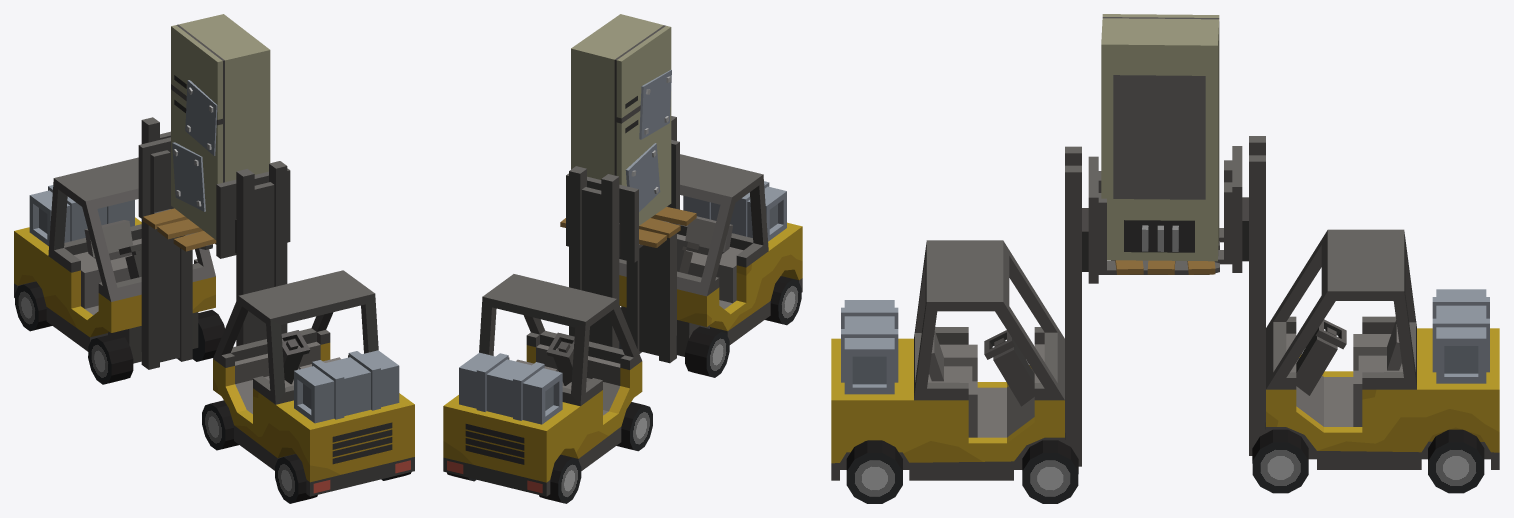
The model's file is AI_Prop_Forklift_Door.fbx.
The picture shows the model from 3 angles, left to right: view 1: azimuth 30°, elevation 25°; view 2: azimuth 150°, elevation 25°; view 3: azimuth 270°, elevation 25°; orthographic projection. The views are drawn at different scales.
Visible parts, largest first — view 1: AI_Prop_Forklift_Door, AI_Prop_Forklift_Door_Moveable; view 2: AI_Prop_Forklift_Door, AI_Prop_Forklift_Door_Moveable; view 3: AI_Prop_Forklift_Door, AI_Prop_Forklift_Door_Moveable.
Part boxes in pixels (x1=…): AI_Prop_Forklift_Door: x1=14, y1=117, x2=414, y2=503; AI_Prop_Forklift_Door_Moveable: x1=138, y1=14, x2=290, y2=258; AI_Prop_Forklift_Door: x1=443, y1=116, x2=802, y2=503; AI_Prop_Forklift_Door_Moveable: x1=560, y1=14, x2=696, y2=262; AI_Prop_Forklift_Door: x1=831, y1=136, x2=1499, y2=503; AI_Prop_Forklift_Door_Moveable: x1=1082, y1=14, x2=1248, y2=283.
Size of the model in its own units: 2.4 by 6.24 by 8.65.
